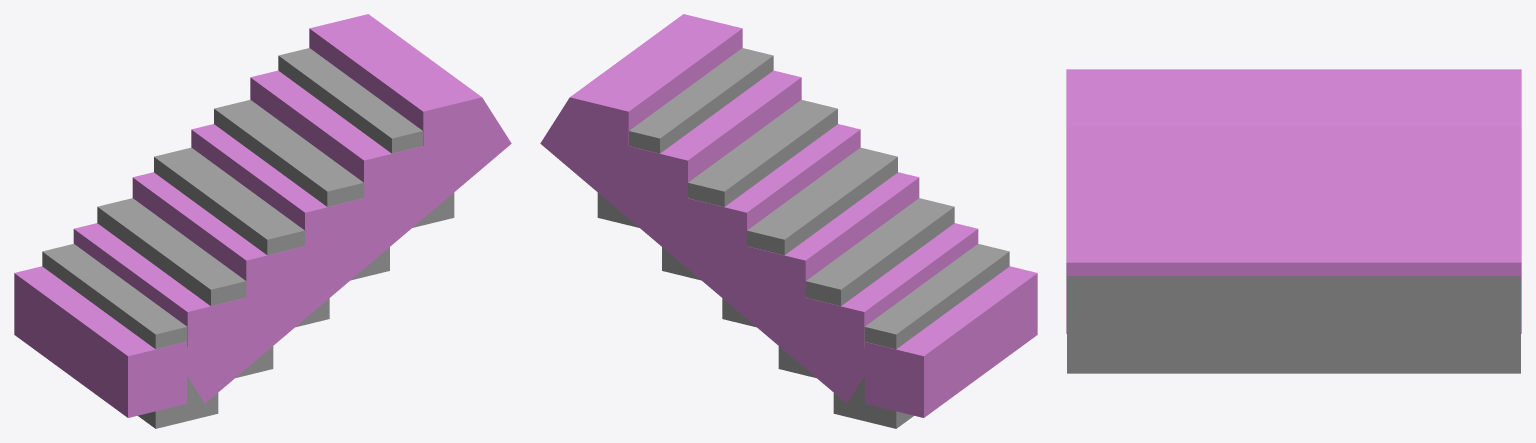
File: stairs.fbx
The picture shows the model from 3 angles, left to right: view 1: azimuth 30°, elevation 25°; view 2: azimuth 150°, elevation 25°; view 3: azimuth 270°, elevation 25°; orthographic projection. The views are drawn at different scales.
Parts seen in each view (by area): view 1: pCube34; view 2: pCube34; view 3: pCube34.
Boxes of the visible parts, x1,y1,x2,y2 form: pCube34: (14,14,511,428); pCube34: (540,14,1037,428); pCube34: (1066,69,1521,373).
Bounding box in the file's own units: 4.25 × 2.67 × 2.18.
